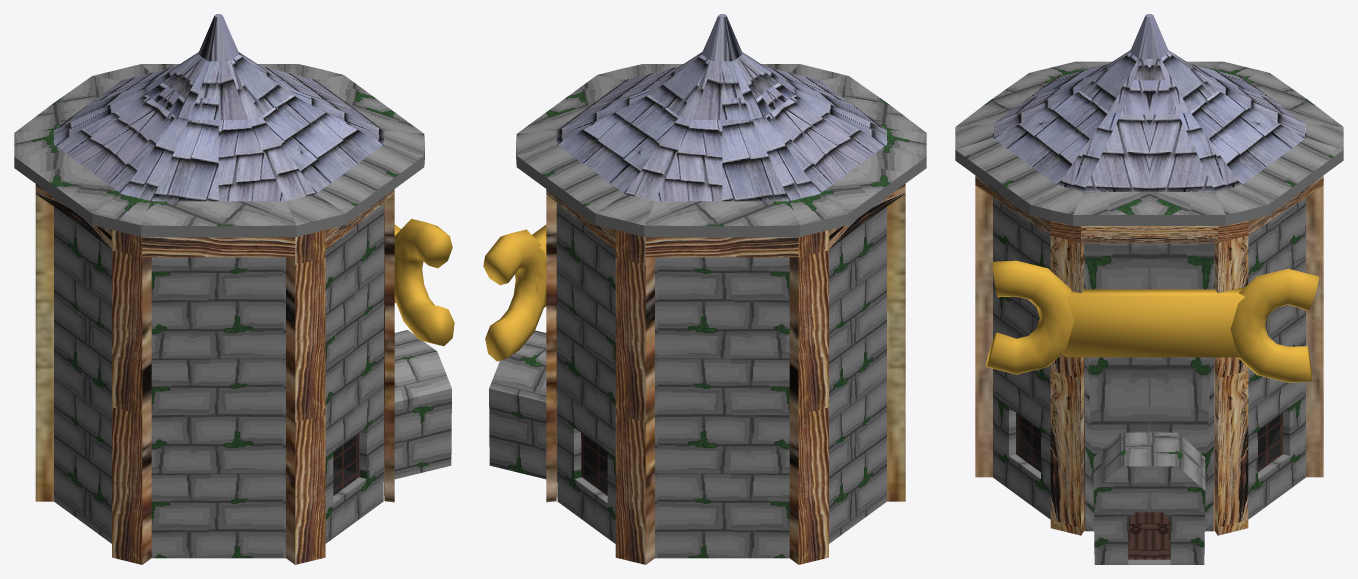
Rendered from hardwarefbx.fbx.
3 views of the same model, side by side, from view 1: azimuth 30°, elevation 25°; view 2: azimuth 150°, elevation 25°; view 3: azimuth 270°, elevation 25° (orthographic). The views are drawn at different scales.
Parts seen in each view (by area): view 1: Cylinder.007, Torus; view 2: Cylinder.007, Torus; view 3: Cylinder.007, Torus.
Part boxes in pixels (left/top/right/bottom): Cylinder.007: left=14, top=14, right=451, bottom=564; Torus: left=394, top=219, right=454, bottom=345; Cylinder.007: left=489, top=14, right=926, bottom=564; Torus: left=483, top=224, right=546, bottom=361; Cylinder.007: left=955, top=14, right=1343, bottom=564; Torus: left=985, top=260, right=1318, bottom=382.
Size of the model in its own units: 1320 by 1636 by 1266.
